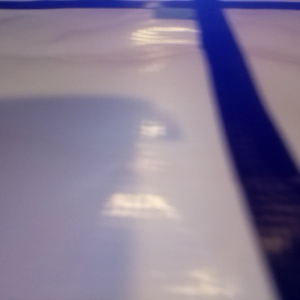bottom_left: (154, 1, 221, 19)
